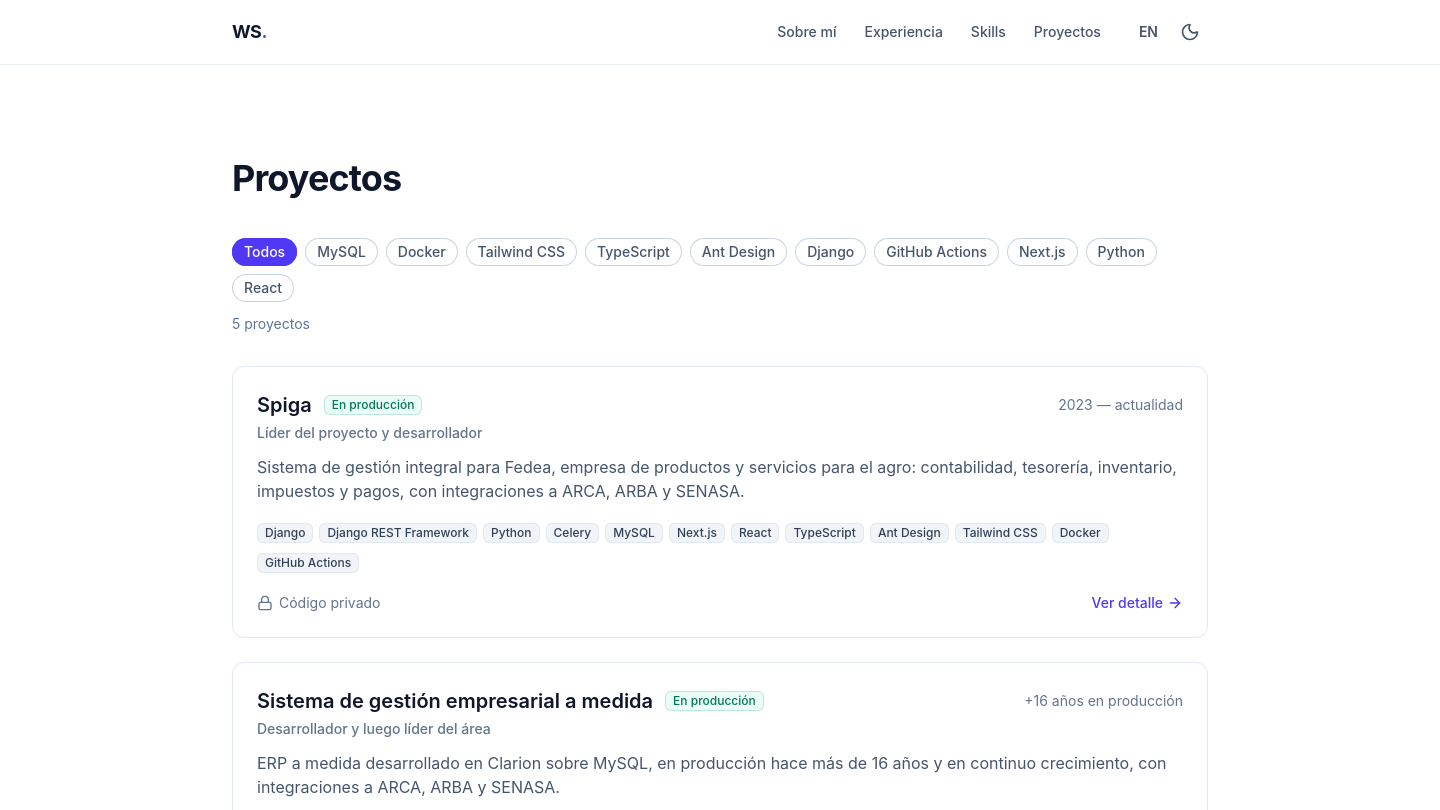
Navegación entre rutas › click en una card abre el detalle del proyecto
(page scrolled)
What coordinates should you click on to do the following:
click the link "Spiga"
I would click on:
 (284, 405)
Its box is x1=257 y1=393 x2=312 y2=417.
(page scrolled)
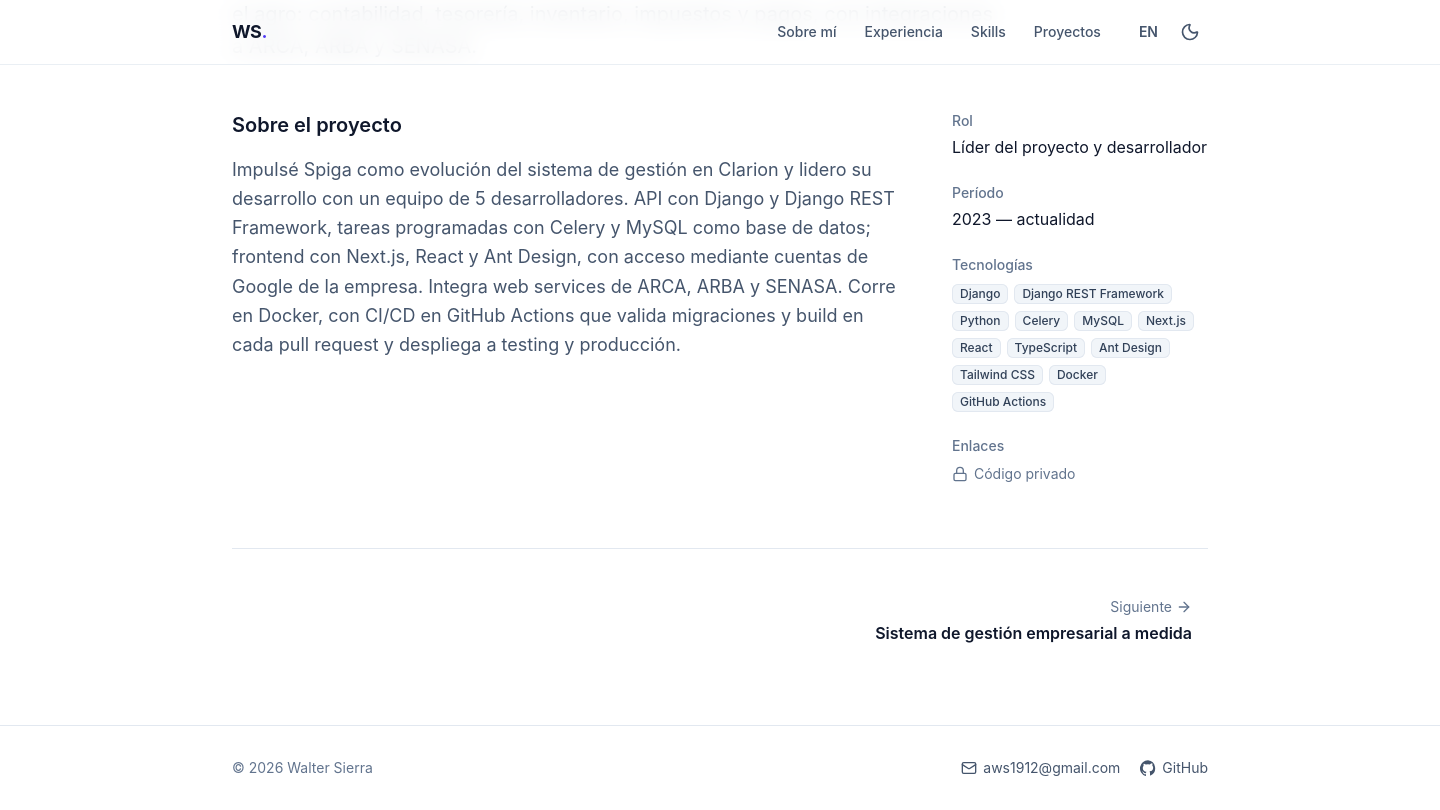
Expected: the text "Líder del proyecto y desarrollador" is shown, x1=952 y1=134 x2=1208 y2=158
Result: the text "Impulsé Spiga como evolución del sistema de gestión en Clarion y lidero su desarrollo con un equipo de 5 desarrolladores" is shown at x1=232 y1=158 x2=896 y2=355
